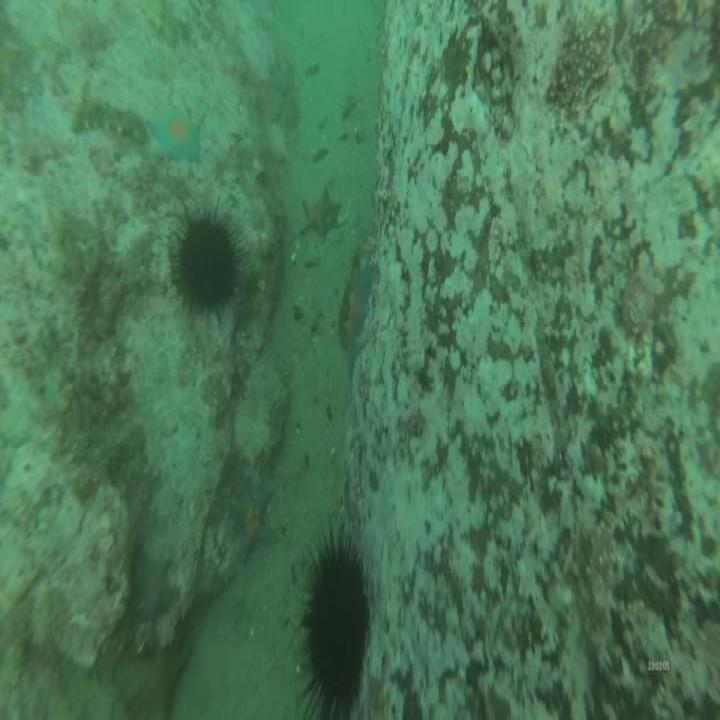echinus: (307, 550, 366, 708), (181, 224, 236, 306)
holothurian: (70, 100, 148, 148), (142, 0, 178, 44)
starfish: (229, 485, 273, 556), (150, 101, 198, 162), (135, 558, 173, 617), (347, 263, 372, 343), (301, 186, 334, 242)
